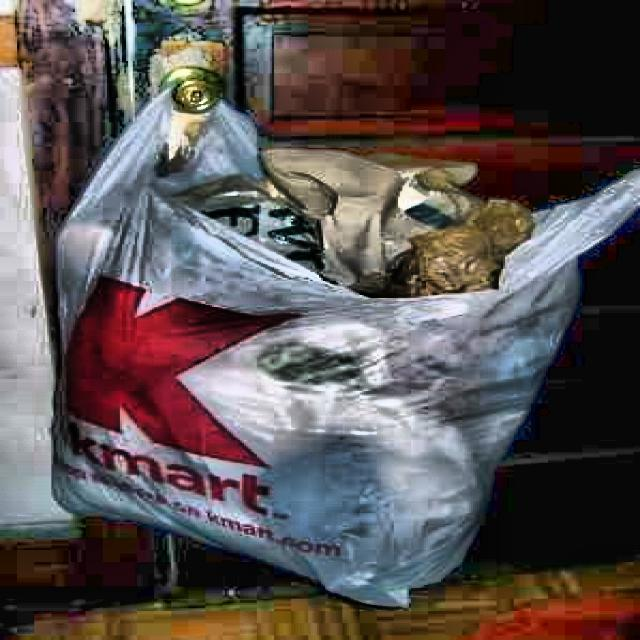Plastic: (57, 80, 627, 606)
